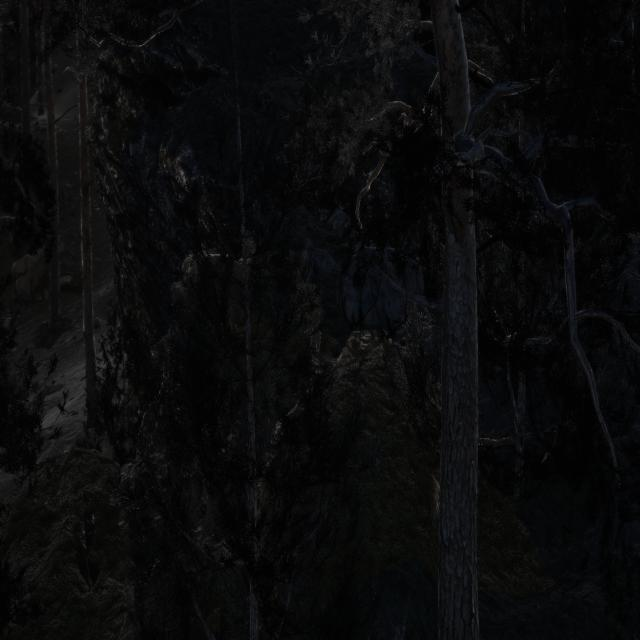Human: (303, 287, 326, 398)
